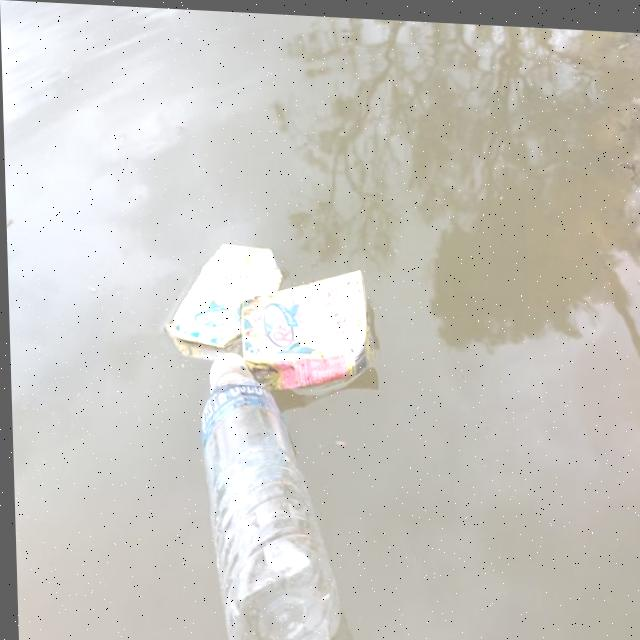paper: (227, 250, 375, 395), (163, 224, 299, 366)
waterbottle: (190, 338, 356, 640)
